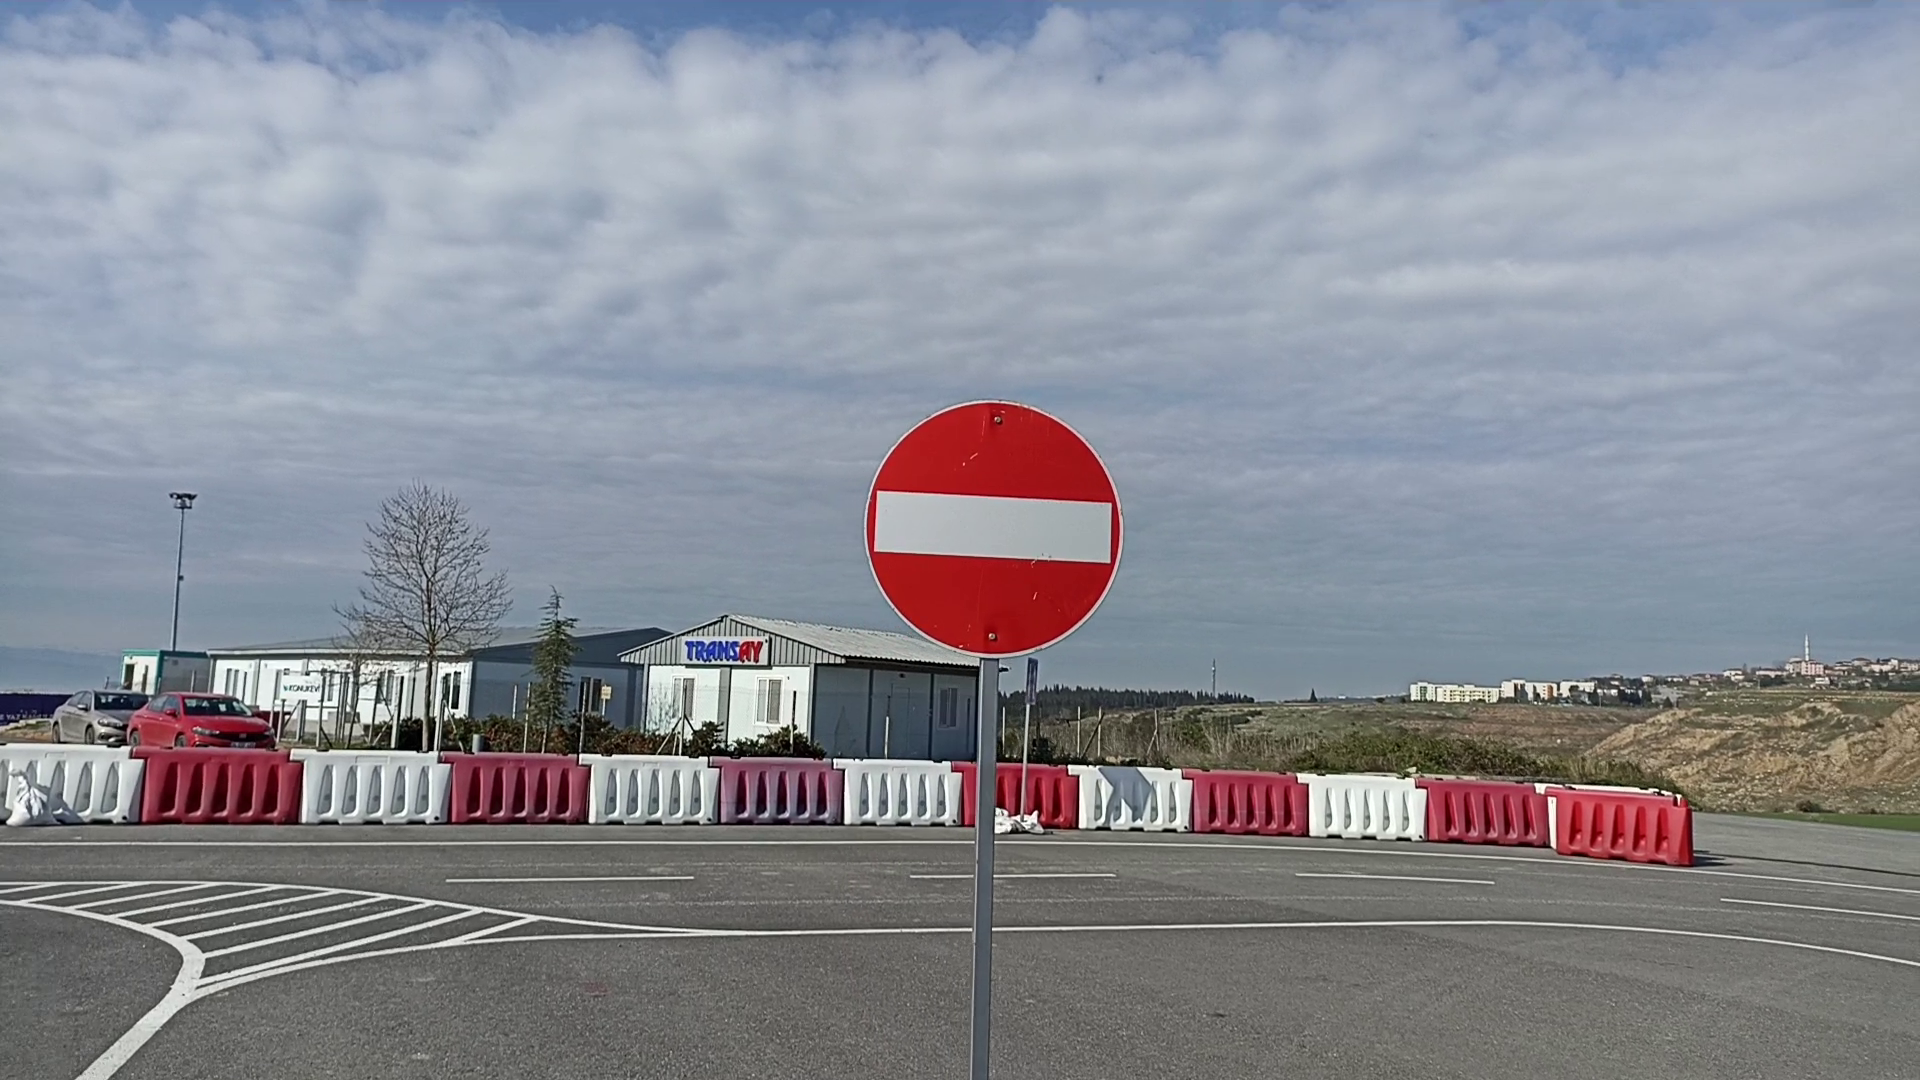noentryway: (861, 394, 1127, 659)
